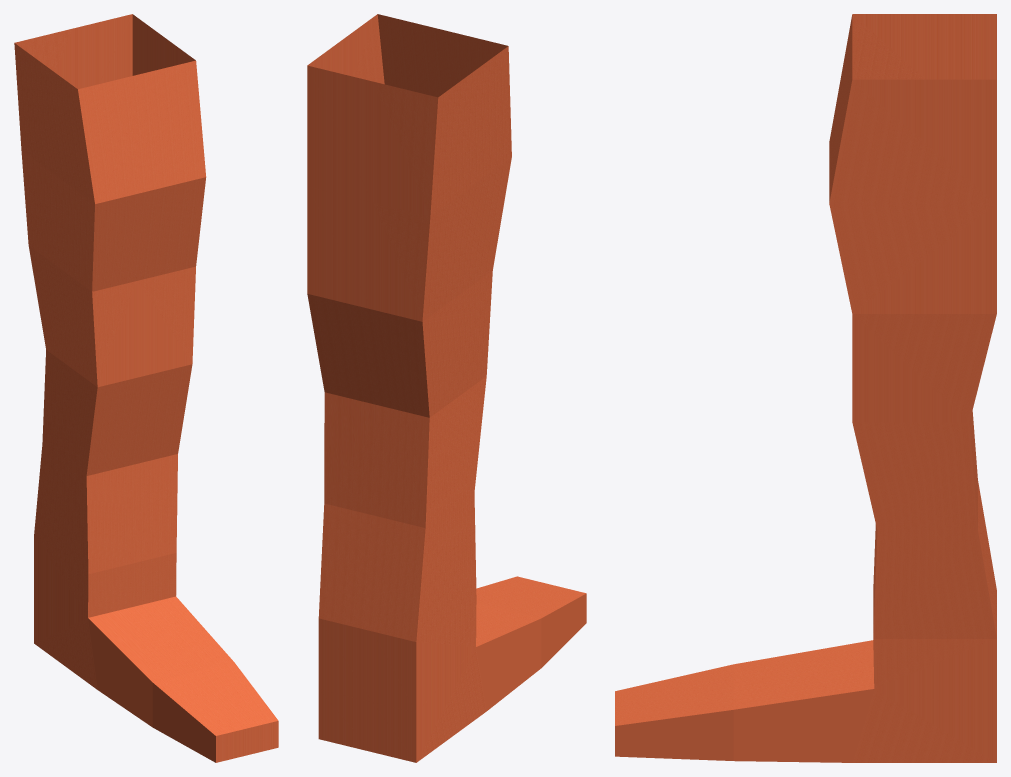
Rendered from Pierna_Izquierda.obj.
The picture shows the model from 3 angles, left to right: view 1: azimuth 30°, elevation 25°; view 2: azimuth 150°, elevation 25°; view 3: azimuth 270°, elevation 25°; orthographic projection. The views are drawn at different scales.
Visible parts, largest first — view 1: Pierna_Izquierda; view 2: Pierna_Izquierda; view 3: Pierna_Izquierda.
Boxes of the visible parts, <box> form: Pierna_Izquierda: <box>14,14,278,762</box>; Pierna_Izquierda: <box>307,14,586,762</box>; Pierna_Izquierda: <box>615,14,996,762</box>.
Size of the model in its own units: 0.2166 by 1.06 by 0.5324.
Materials: 1 (1 with a texture image).
